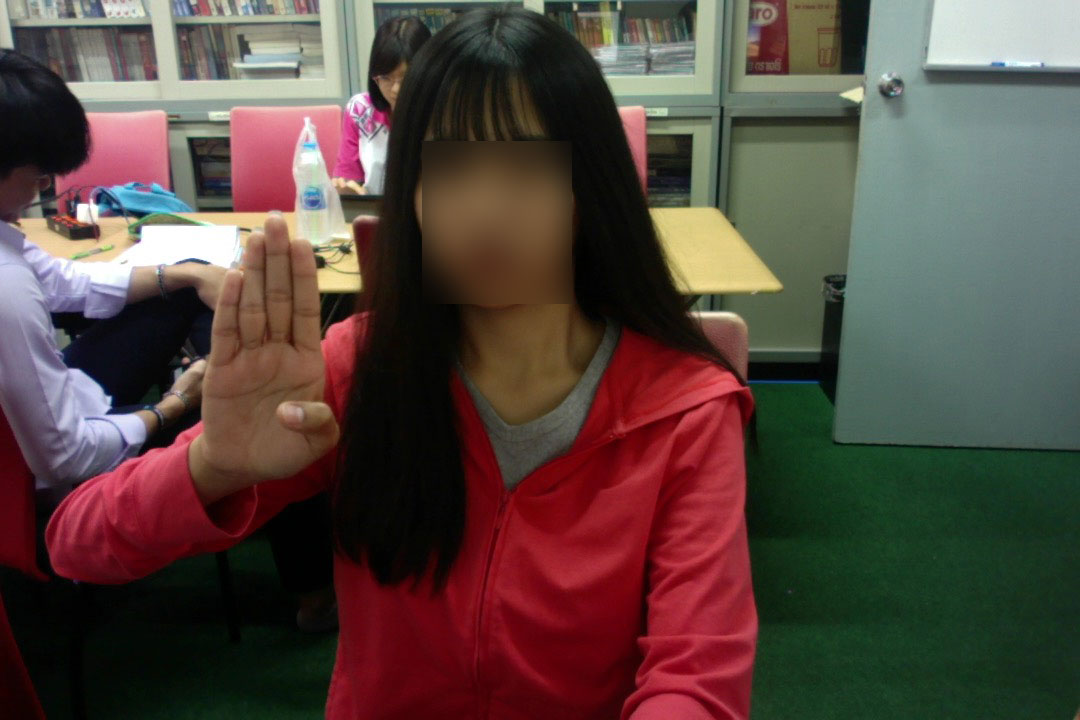bor: (198, 206, 345, 489)
